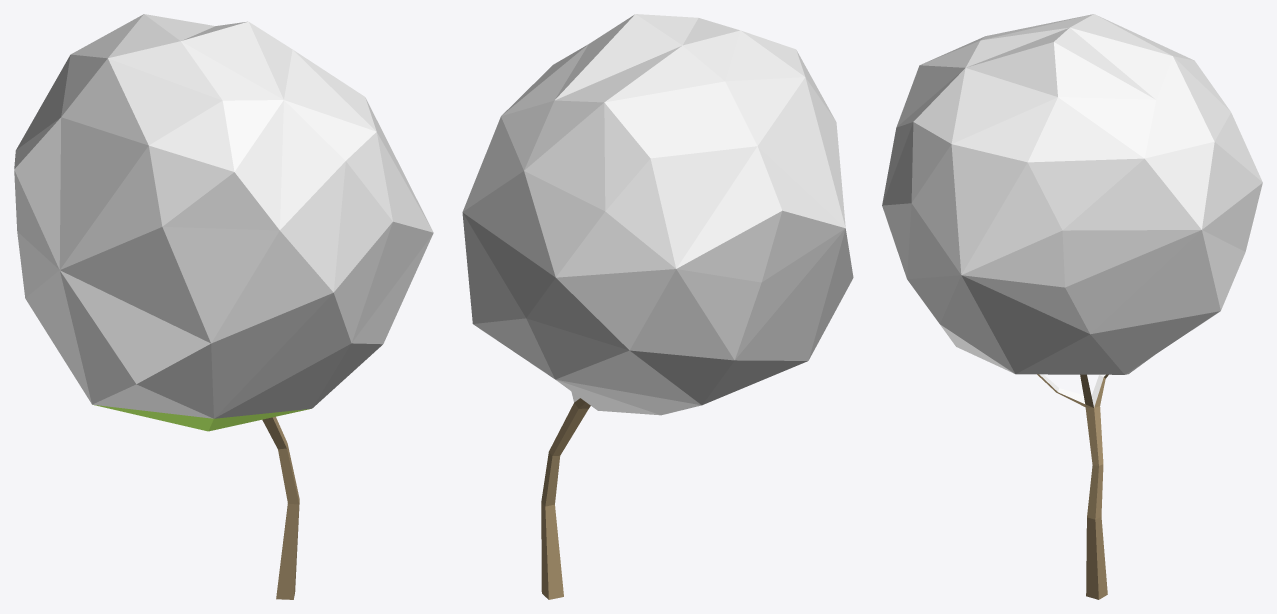
The model's file is Apple_Tree_s_Snow_04_LOD.fbx.
The picture shows the model from 3 angles, left to right: view 1: azimuth 30°, elevation 25°; view 2: azimuth 150°, elevation 25°; view 3: azimuth 270°, elevation 25°; orthographic projection. The views are drawn at different scales.
Parts seen in each view (by area): view 1: Apple_Tree_s_Snow_04_LOD0; view 2: Apple_Tree_s_Snow_04_LOD0; view 3: Apple_Tree_s_Snow_04_LOD0.
Boxes of the visible parts, bbox=[...] form: Apple_Tree_s_Snow_04_LOD0: bbox=[14, 14, 433, 599]; Apple_Tree_s_Snow_04_LOD0: bbox=[462, 14, 853, 599]; Apple_Tree_s_Snow_04_LOD0: bbox=[882, 14, 1262, 599].
Size of what is drawn, in the model's own units: 184 by 317 by 207.
